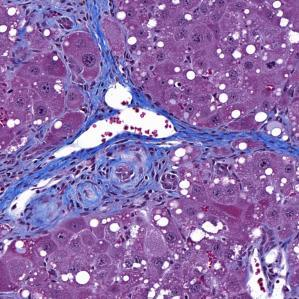fibrosis: (5, 136, 165, 222), (11, 0, 103, 42), (170, 121, 246, 160), (94, 66, 154, 114)
